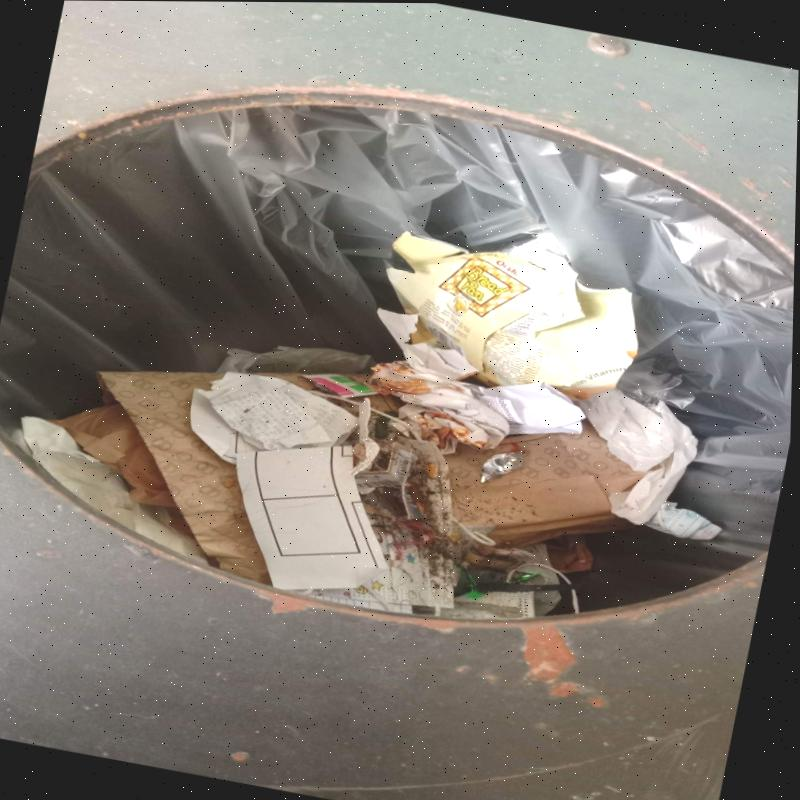facemask: (316, 437, 496, 608), (434, 541, 581, 621), (641, 503, 724, 541)
food wrapper: (386, 232, 638, 401)
paper: (96, 369, 411, 581), (189, 372, 388, 591), (444, 419, 660, 546), (574, 389, 698, 525), (456, 380, 587, 435)
